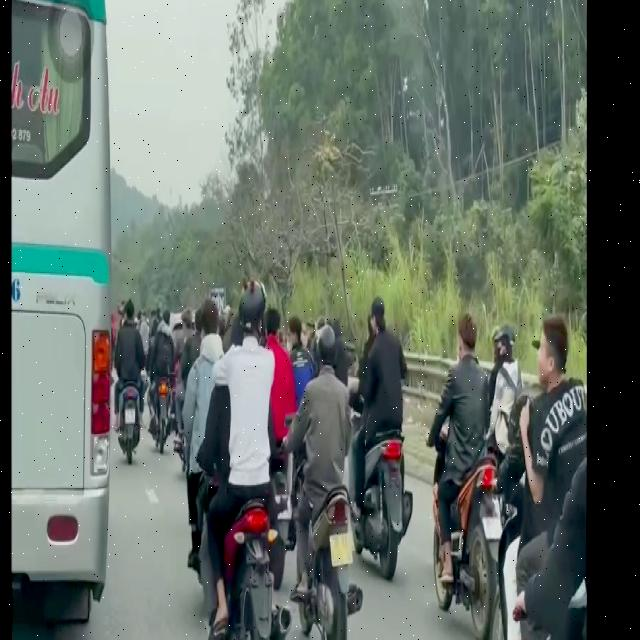helmet: (239, 264, 271, 365), (319, 321, 338, 377)
no_helmet: (536, 322, 573, 407), (459, 311, 478, 359)
